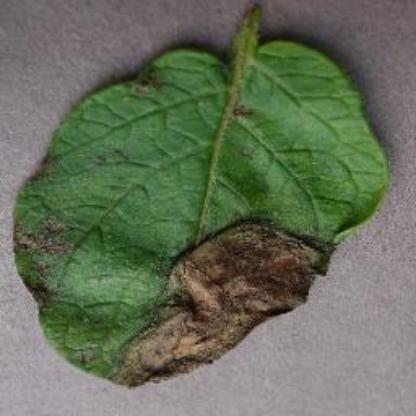Late-Blight: (8, 8, 404, 394)
